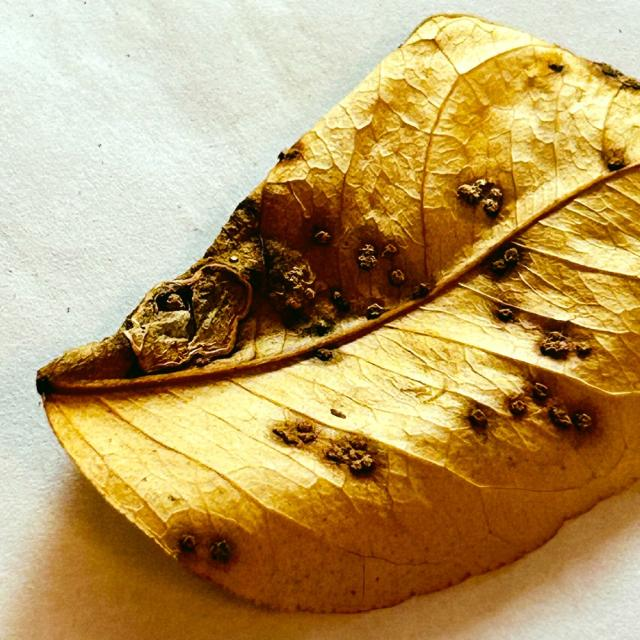DryLeaf_Lemon: (36, 14, 639, 611)
